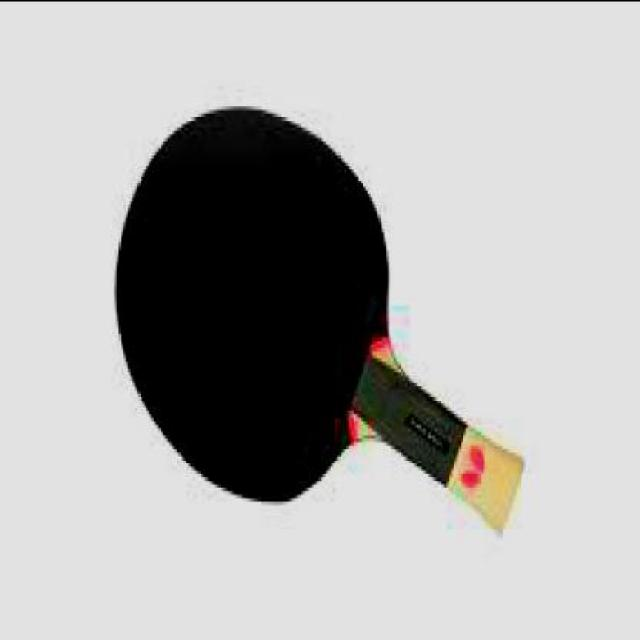table_tennis_racket: (113, 103, 384, 508)
